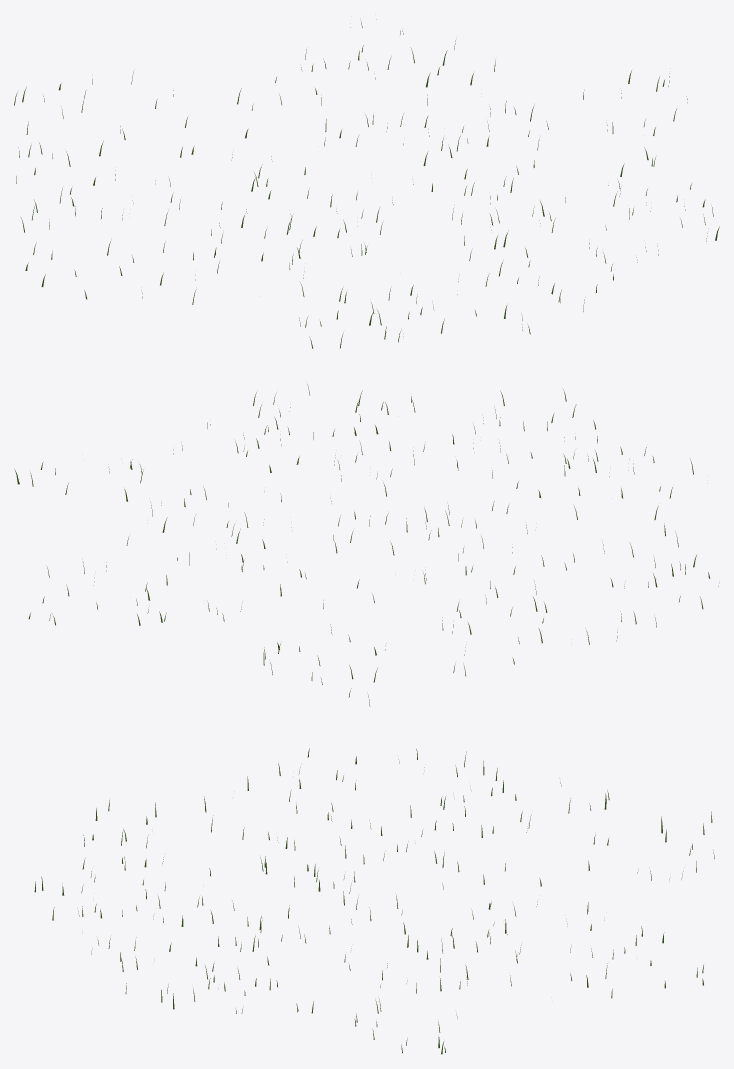
3 views of the same model, one above another, from view 1: azimuth 30°, elevation 25°; view 2: azimuth 150°, elevation 25°; view 3: azimuth 270°, elevation 25° (orthographic). The views are drawn at different scales.
Parts seen in each view (by area): view 1: GrassPatch; view 2: GrassPatch; view 3: GrassPatch.
Part boxes in pixels (x1,y1,x2,y2): GrassPatch: (14, 19, 719, 348); GrassPatch: (14, 384, 719, 706); GrassPatch: (34, 748, 714, 1054).
Size of the model in its own units: 18.99 by 0.4913 by 18.39.
